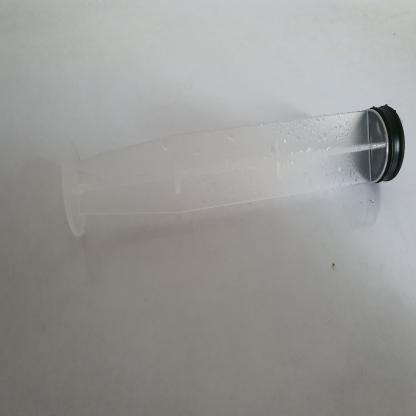wet: (56, 92, 405, 238)
